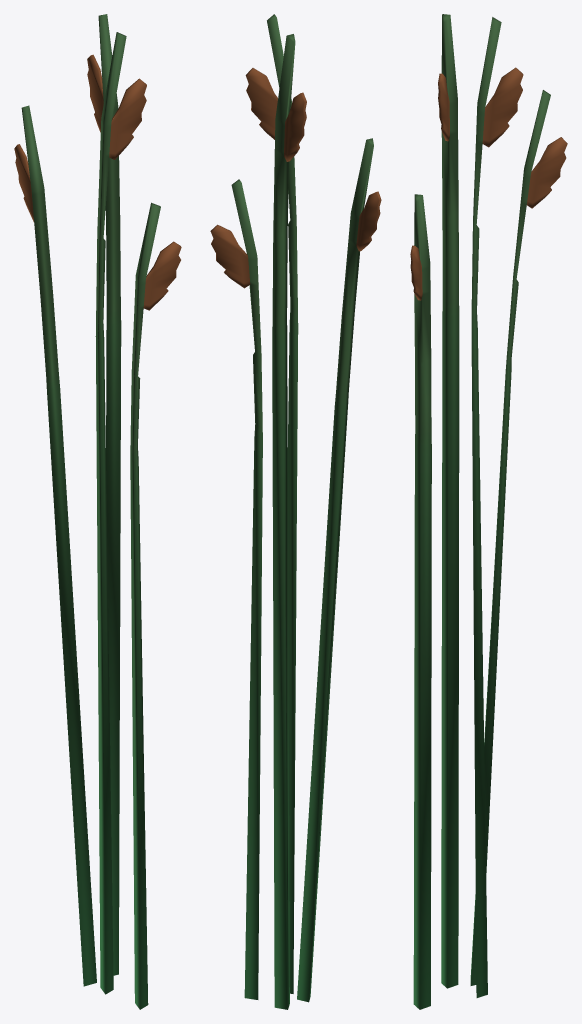
The model's file is Jouhivihvilä(1).fbx.
3 views of the same model, side by side, from view 1: azimuth 30°, elevation 25°; view 2: azimuth 210°, elevation 25°; view 3: azimuth 270°, elevation 25° (orthographic). The views are drawn at different scales.
Parts seen in each view (by area): view 1: Cylinder; view 2: Cylinder; view 3: Cylinder.
Boxes of the visible parts, x1=… form: Cylinder: x1=14, y1=14, x2=181, y2=1009; Cylinder: x1=210, y1=14, x2=381, y2=1009; Cylinder: x1=410, y1=14, x2=567, y2=1009.
Bounding box in the file's own units: 9.18 × 89.19 × 12.86.
Materials: 2 (1 with a texture image).
